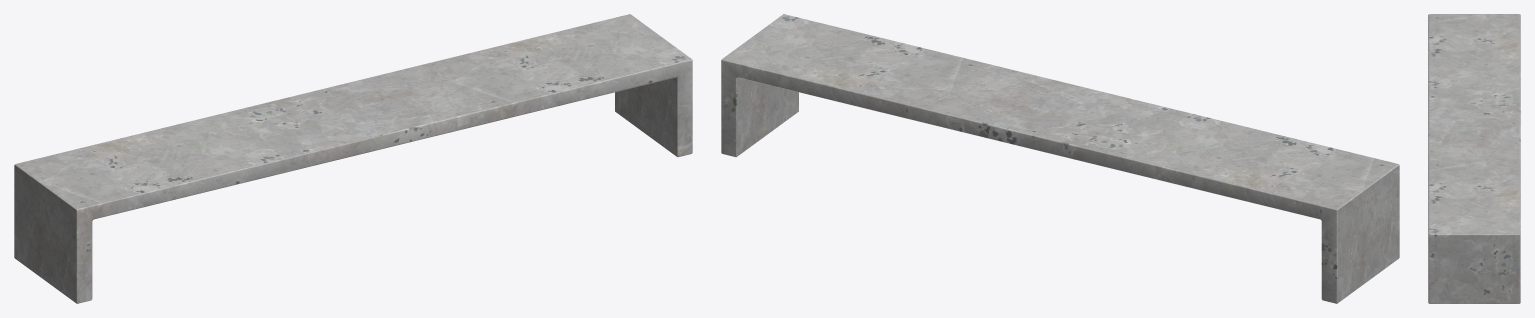
Rendered from Benchback Less Concrete 3m.glb.
The picture shows the model from 3 angles, left to right: view 1: azimuth 30°, elevation 25°; view 2: azimuth 150°, elevation 25°; view 3: azimuth 270°, elevation 25°; orthographic projection. The views are drawn at different scales.
Parts seen in each view (by area): view 1: RS_LOD0_SECTION0_Concrete_mat; view 2: RS_LOD0_SECTION0_Concrete_mat; view 3: RS_LOD0_SECTION0_Concrete_mat.
Part boxes in pixels (x1,y1,x2,y2): RS_LOD0_SECTION0_Concrete_mat: (14, 14, 692, 303); RS_LOD0_SECTION0_Concrete_mat: (721, 14, 1399, 303); RS_LOD0_SECTION0_Concrete_mat: (1428, 14, 1520, 303).
Bounding box in the file's own units: 3 × 0.4417 × 0.5288.
2 materials, 1 textured.
